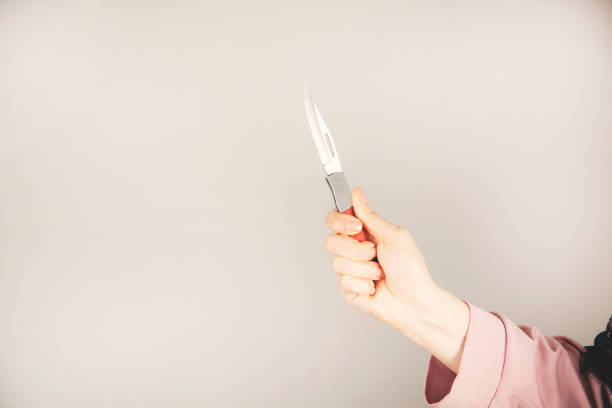knife: (302, 77, 357, 221)
